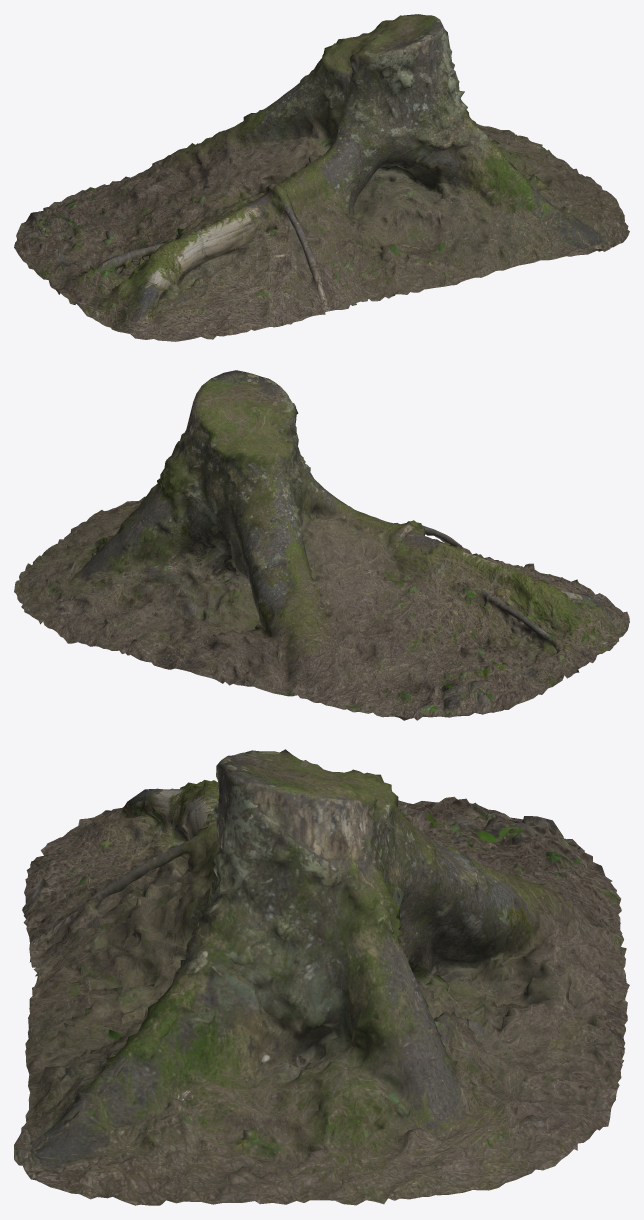
File: PX_Stump_06_LOD0.fbx
3 renders of one model, top to bottom at view 1: azimuth 30°, elevation 25°; view 2: azimuth 150°, elevation 25°; view 3: azimuth 270°, elevation 25°, orthographic. The views are drawn at different scales.
Parts seen in each view (by area): view 1: PX_Stump_06_LOD0; view 2: PX_Stump_06_LOD0; view 3: PX_Stump_06_LOD0.
Part boxes in pixels (box(x1,y1,x2,y2)): PX_Stump_06_LOD0: box(14, 14, 629, 341); PX_Stump_06_LOD0: box(14, 370, 629, 720); PX_Stump_06_LOD0: box(14, 749, 629, 1205).
Size of the model in its own units: 248 by 90.51 by 160.
